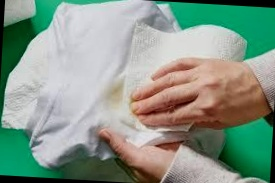oil: (104, 82, 122, 104)
